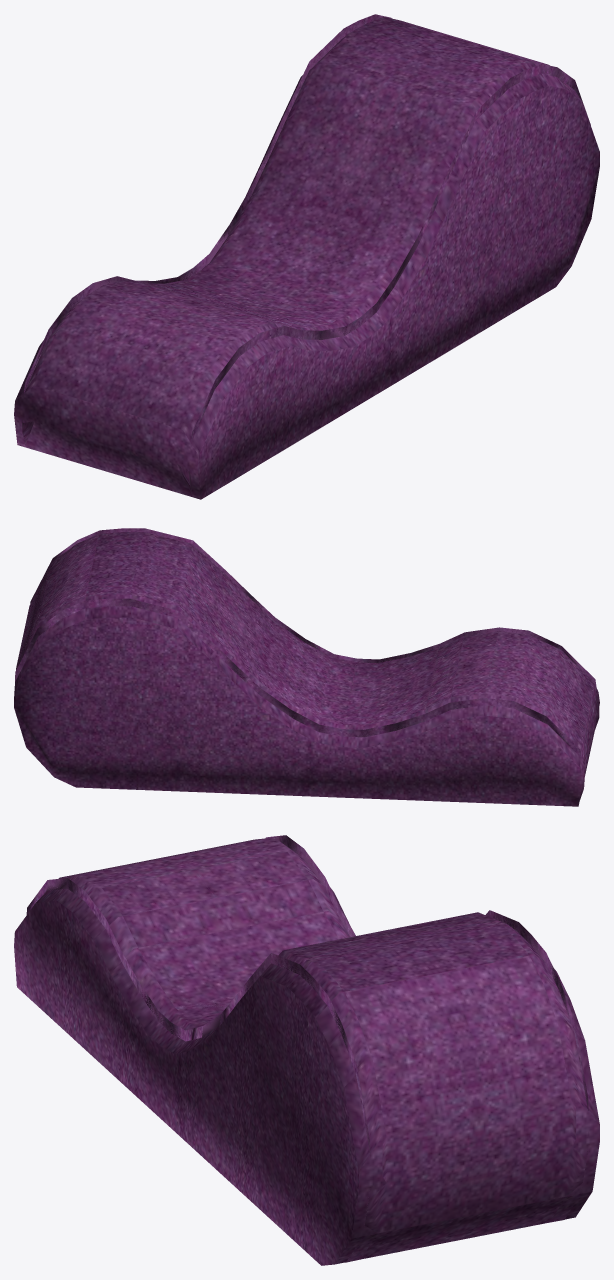
File: tantrasofa.gltf
3 renders of one model, top to bottom at view 1: azimuth 30°, elevation 25°; view 2: azimuth 150°, elevation 25°; view 3: azimuth 270°, elevation 25°, orthographic. The views are drawn at different scales.
Parts seen in each view (by area): view 1: Plane.002; view 2: Plane.002; view 3: Plane.002.
Boxes of the visible parts, left/top/right/bottom form: Plane.002: left=14, top=14, right=599, bottom=499; Plane.002: left=14, top=528, right=599, bottom=806; Plane.002: left=14, top=835, right=599, bottom=1265.
Bounding box in the file's own units: 46.3 × 16.05 × 31.62.
Materials: 1 (1 with a texture image).
